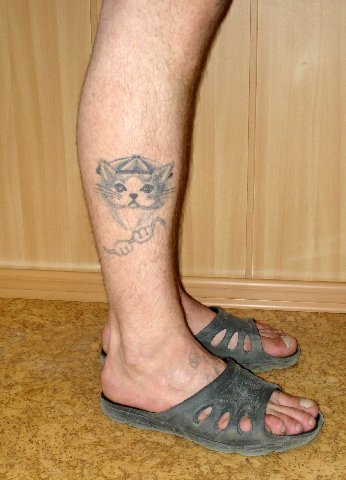tatu8_kot: (90, 153, 186, 255)
